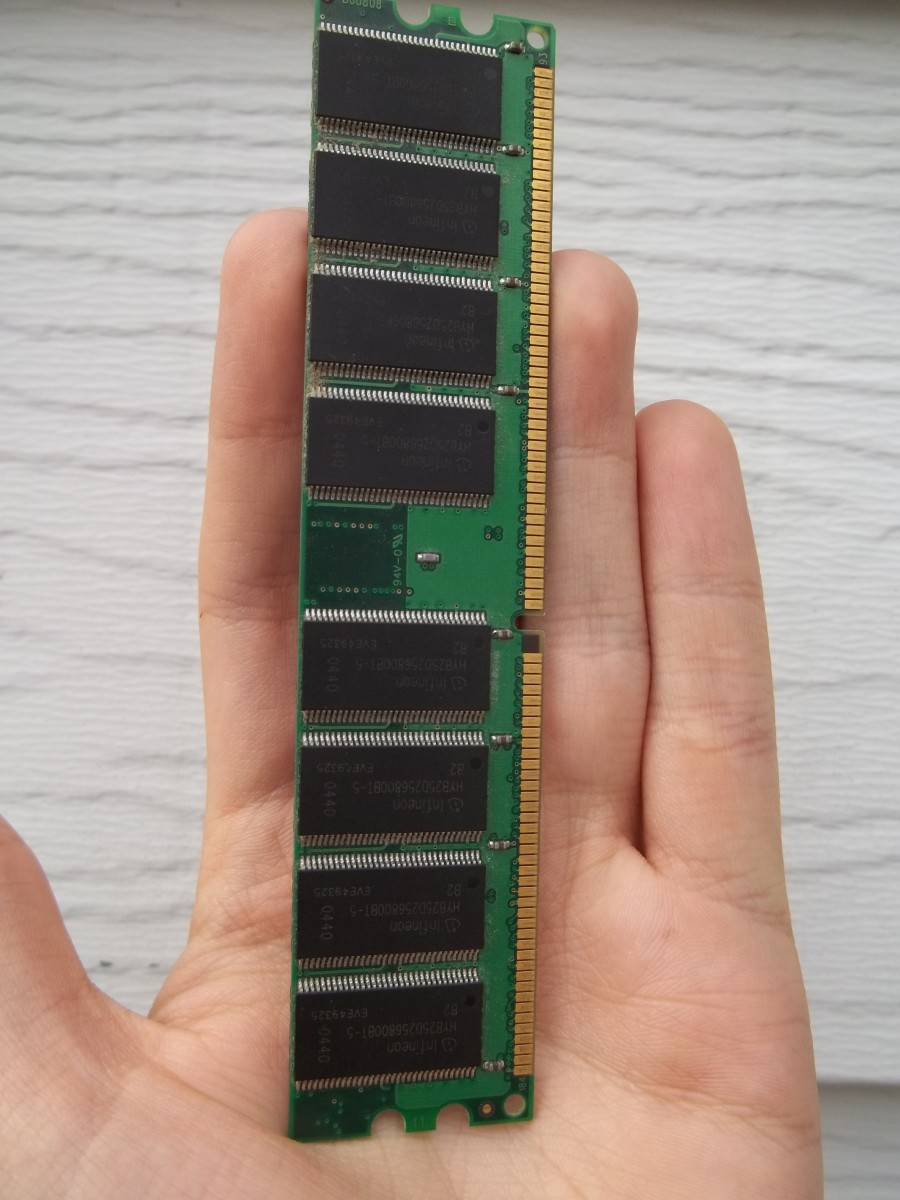ram: (282, 1, 560, 1142)
